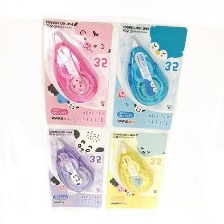correction_fluid: (119, 31, 172, 111), (47, 28, 100, 107), (111, 137, 157, 198), (52, 135, 98, 195)
